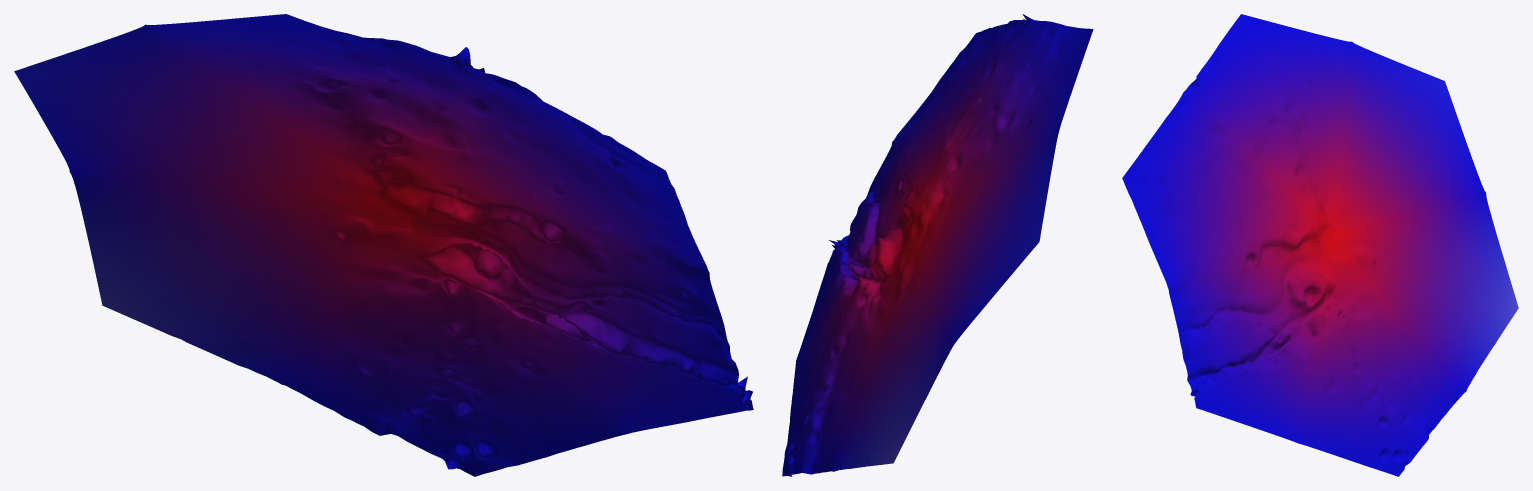
Rendered from Hex_09.fbx.
3 renders of one model, left to right at view 1: azimuth 30°, elevation 25°; view 2: azimuth 150°, elevation 25°; view 3: azimuth 270°, elevation 25°, orthographic. The views are drawn at different scales.
Parts seen in each view (by area): view 1: Hex_09; view 2: Hex_09; view 3: Hex_09.
Part boxes in pixels (bbox=[...]): Hex_09: bbox=[14, 14, 753, 476]; Hex_09: bbox=[782, 14, 1093, 476]; Hex_09: bbox=[1122, 14, 1518, 476].
Size of the model in its own units: 375 by 438 by 424.
